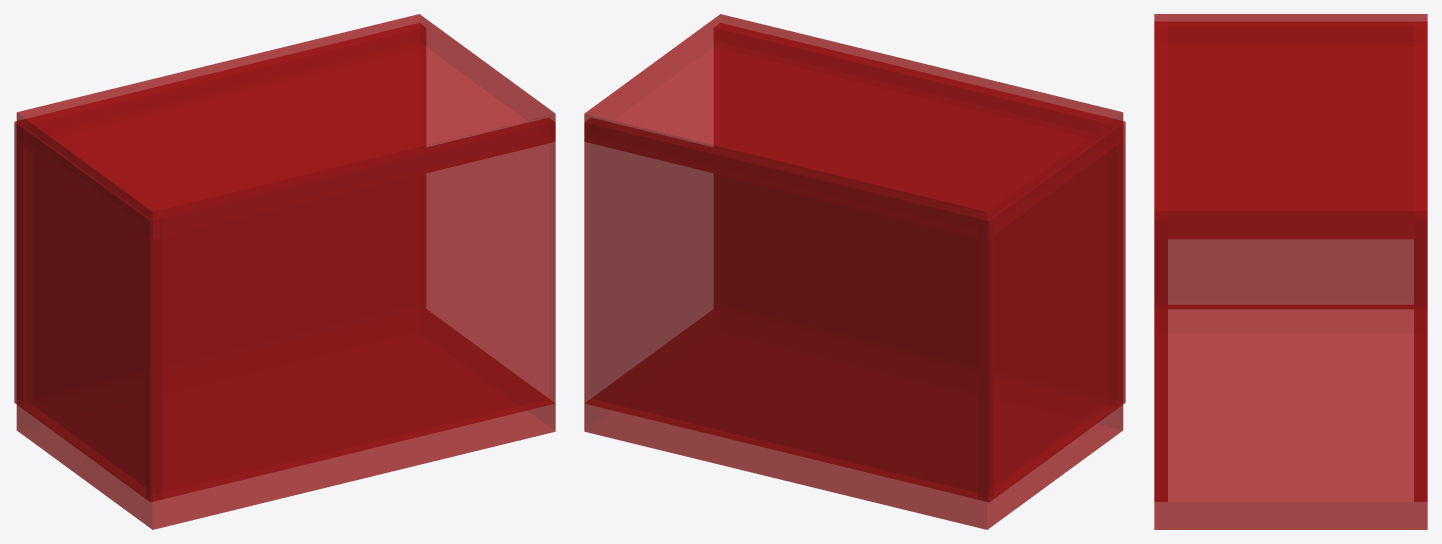
The model's file is SM_Bld_Crane_01_Elevator_Collision.fbx.
3 renders of one model, left to right at view 1: azimuth 30°, elevation 25°; view 2: azimuth 150°, elevation 25°; view 3: azimuth 270°, elevation 25°, orthographic.
Parts seen in each view (by area): view 1: SM_Bld_Crane_01_Elevator_Collision; view 2: SM_Bld_Crane_01_Elevator_Collision; view 3: SM_Bld_Crane_01_Elevator_Collision.
Part boxes in pixels (x1,y1,x2,y2): SM_Bld_Crane_01_Elevator_Collision: (14, 14, 555, 529); SM_Bld_Crane_01_Elevator_Collision: (584, 14, 1125, 529); SM_Bld_Crane_01_Elevator_Collision: (1154, 14, 1427, 529).
Bounding box in the file's own units: 340 × 255 × 198.
